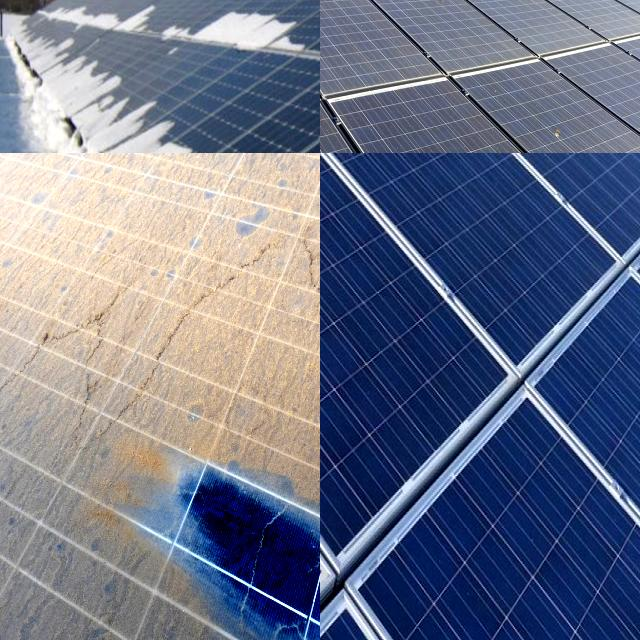crack: (320, 153, 551, 573), (320, 153, 640, 395), (390, 153, 640, 279)
dust: (0, 153, 212, 427), (43, 454, 212, 632), (224, 354, 320, 542), (225, 153, 320, 308), (0, 463, 52, 640), (406, 100, 473, 153)
panel: (155, 0, 309, 80), (1, 17, 118, 105), (78, 108, 227, 153), (36, 0, 142, 44)
